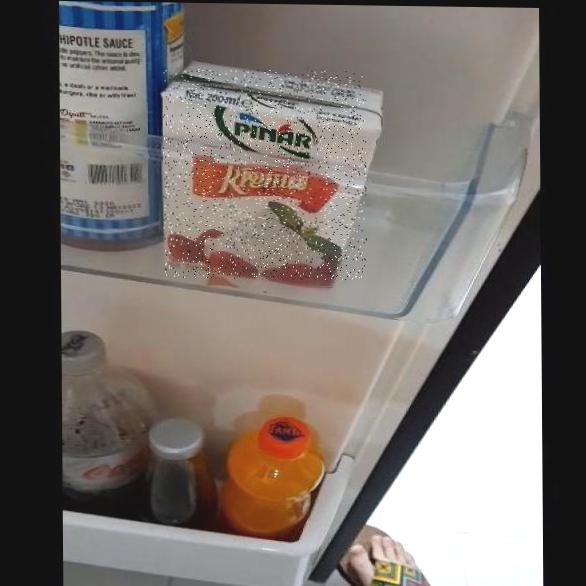cream: (162, 68, 367, 280)
